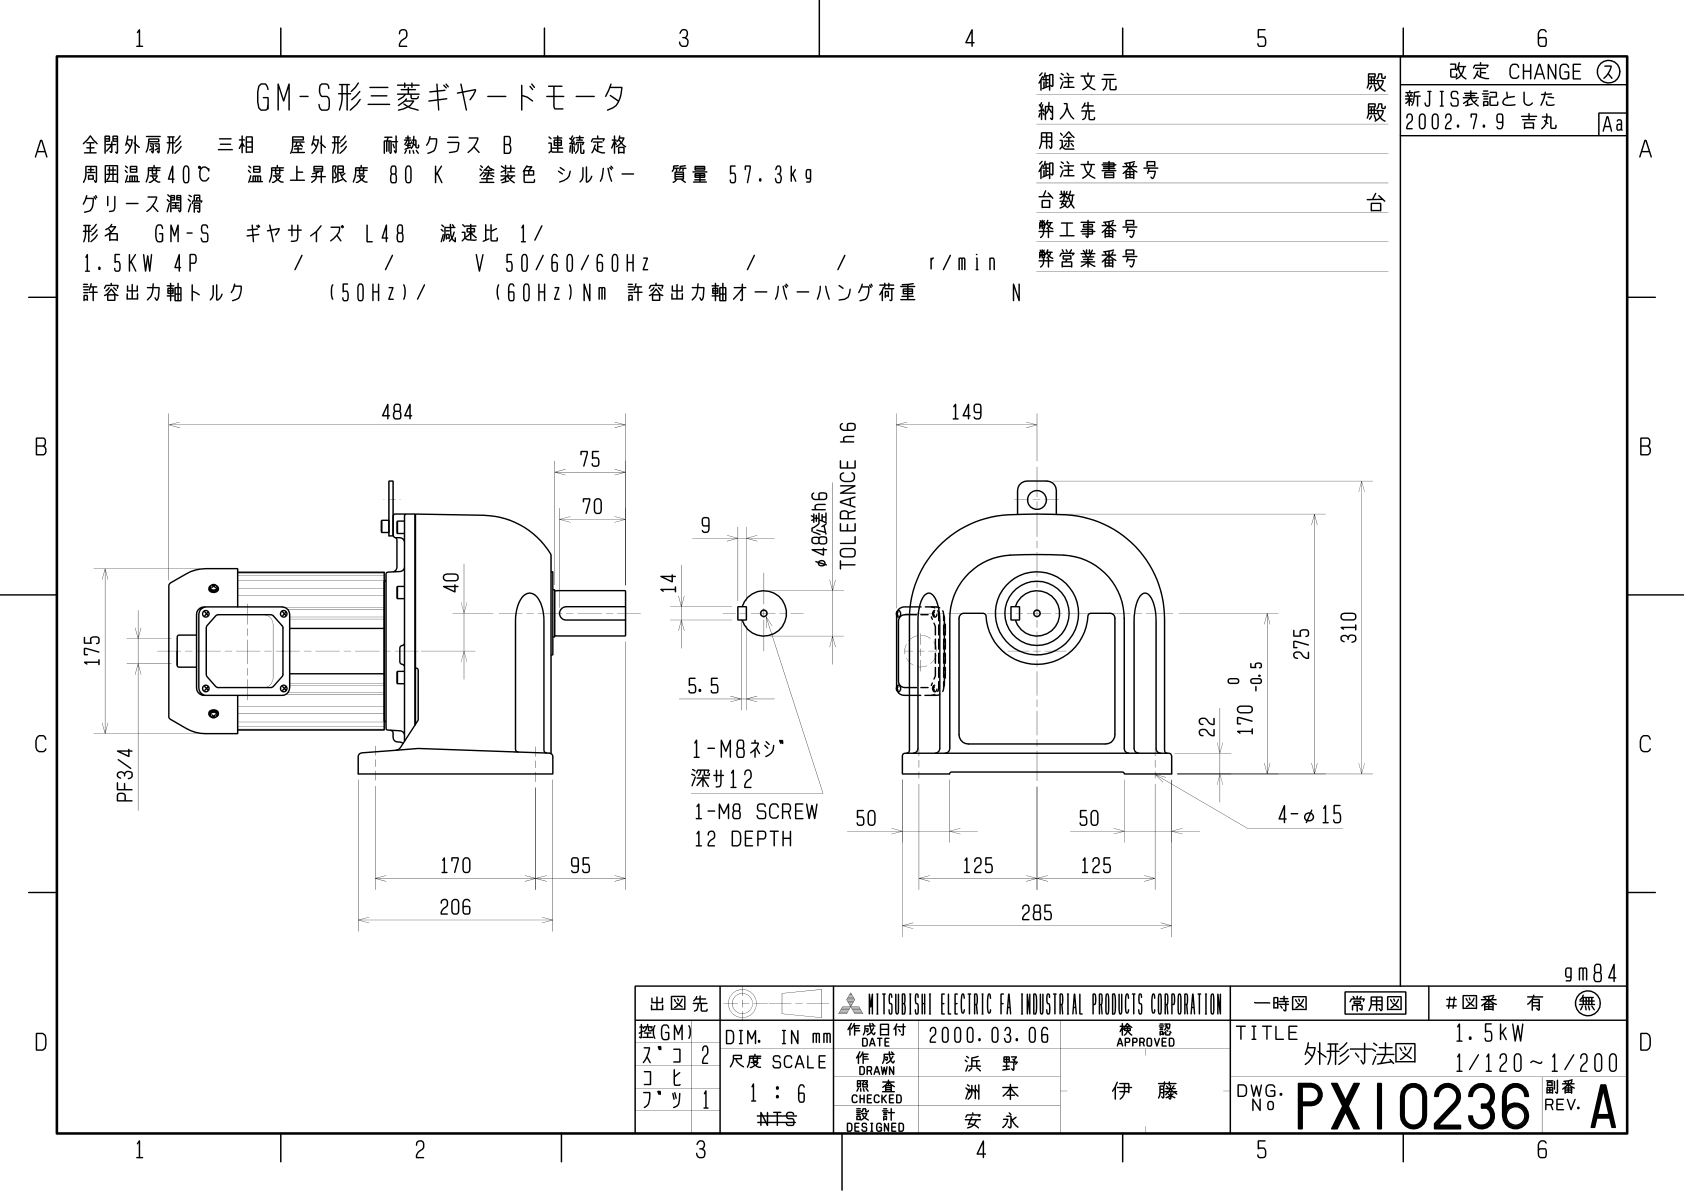GM_S_屋外＿三相_脚: (6, 3, 1684, 1191)
